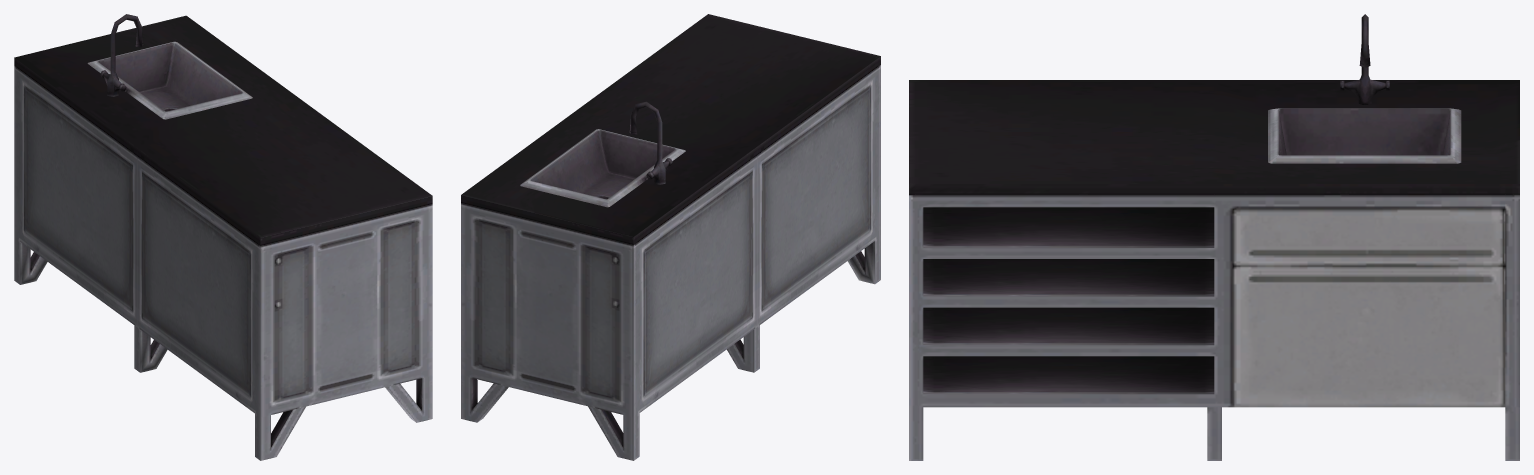
Rendered from TableLab04.FBX.
3 renders of one model, left to right at view 1: azimuth 30°, elevation 25°; view 2: azimuth 150°, elevation 25°; view 3: azimuth 270°, elevation 25°, orthographic. The views are drawn at different scales.
Visible parts, largest first — view 1: TableLab04; view 2: TableLab04; view 3: TableLab04.
Boxes of the visible parts, left/top/right/bottom form: TableLab04: left=14, top=14, right=432, bottom=460; TableLab04: left=461, top=14, right=880, bottom=460; TableLab04: left=909, top=14, right=1519, bottom=460.
Size of the model in its own units: 0.8066 by 1.35 by 2.
